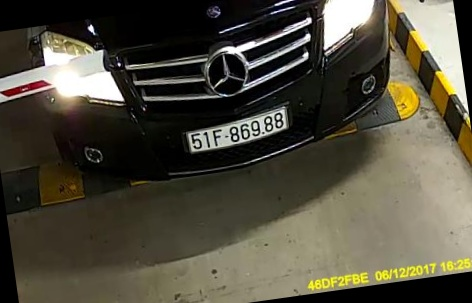plate: (172, 106, 302, 154)
